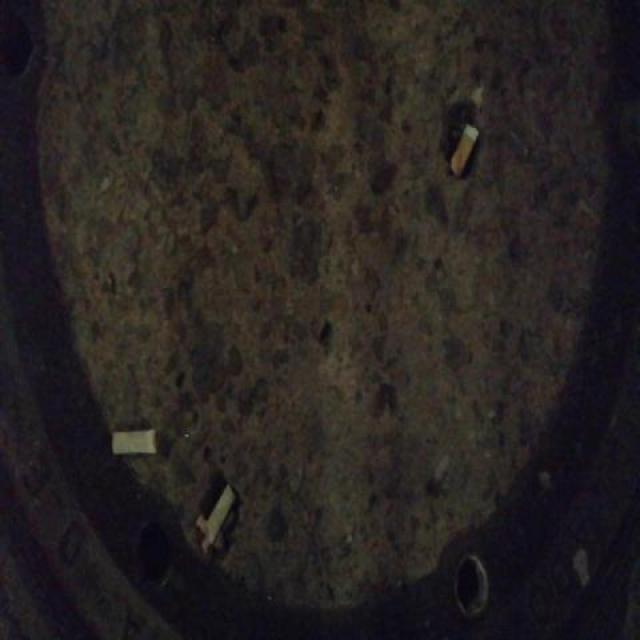non-organic waste: (203, 480, 241, 547), (446, 117, 481, 182), (108, 424, 160, 459)
